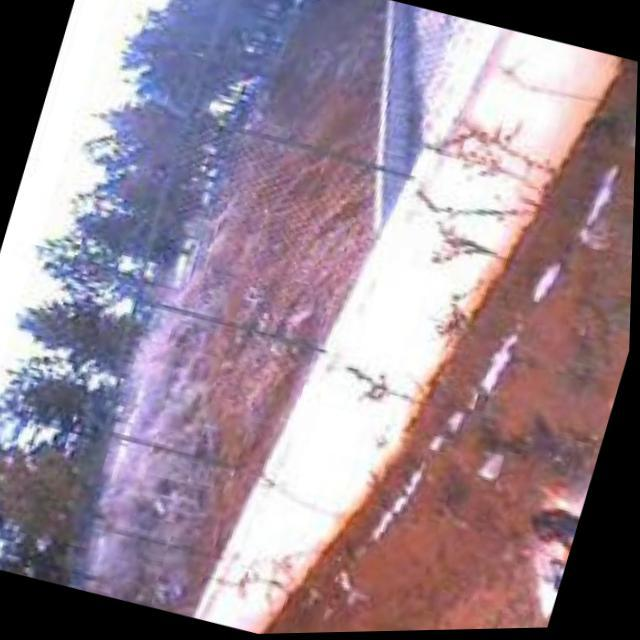fire: (509, 480, 591, 606)
